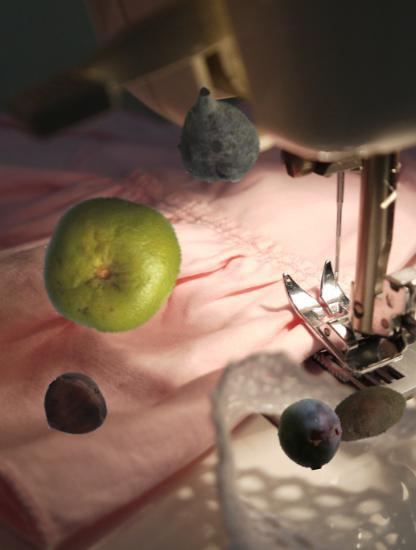Beetroot: (157, 71, 274, 188)
Chestnut: (41, 374, 107, 440)
Plum: (274, 398, 347, 471)
Pomelo: (41, 195, 182, 336)
Potato: (321, 371, 410, 460)
